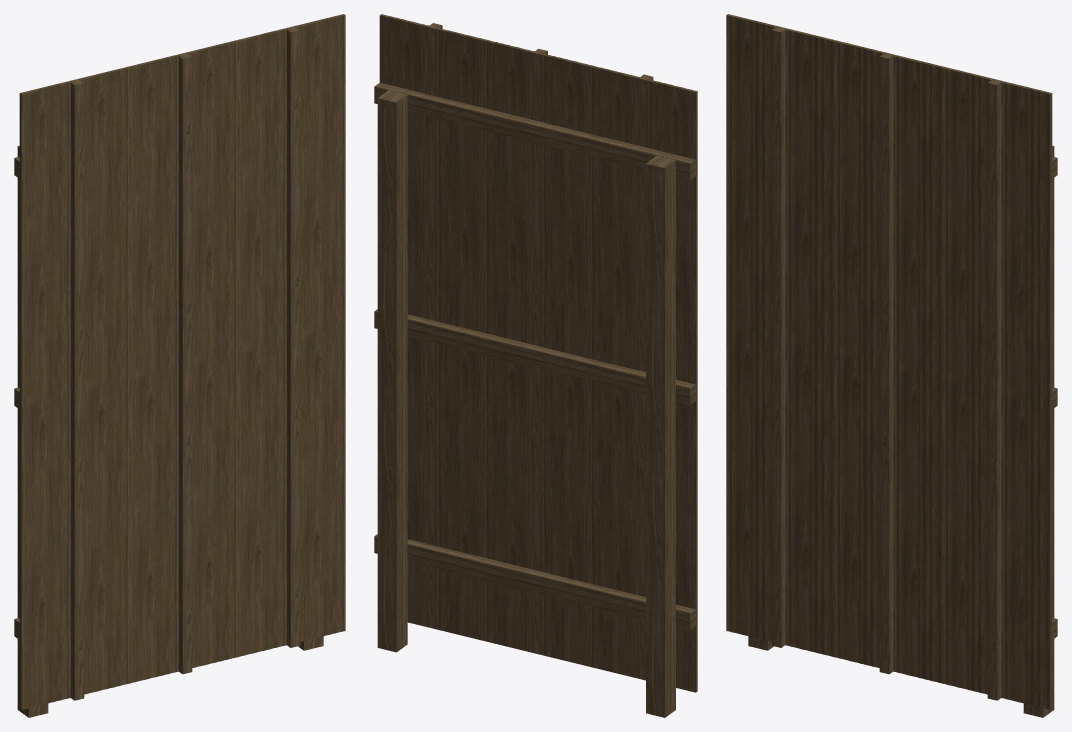
The model's file is kodawari-roji_h1800_brownebony.fbx.
The picture shows the model from 3 angles, left to right: view 1: azimuth 30°, elevation 25°; view 2: azimuth 150°, elevation 25°; view 3: azimuth 330°, elevation 25°; orthographic projection. The views are drawn at different scales.
Parts seen in each view (by area): view 1: kodawari-roji_h1800_brownebony; view 2: kodawari-roji_h1800_brownebony; view 3: kodawari-roji_h1800_brownebony.
Part boxes in pixels (<box>): kodawari-roji_h1800_brownebony: <box>14,14,345,717</box>; kodawari-roji_h1800_brownebony: <box>374,14,697,717</box>; kodawari-roji_h1800_brownebony: <box>726,14,1057,717</box>.
Bounding box in the file's own units: 99.3 × 185 × 12.
Materials: 2 (2 with a texture image).
